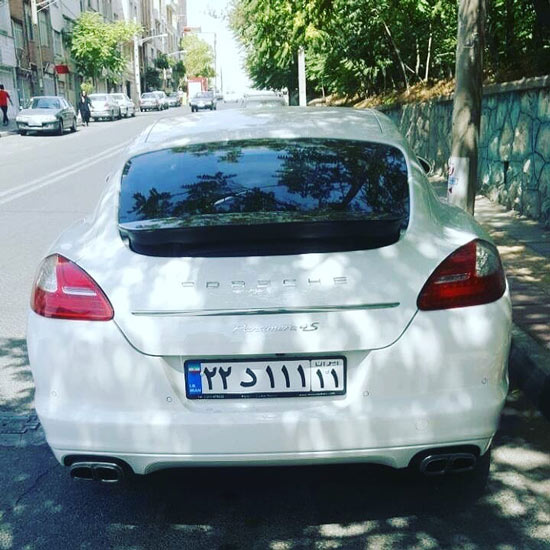car: (183, 359, 348, 396)
